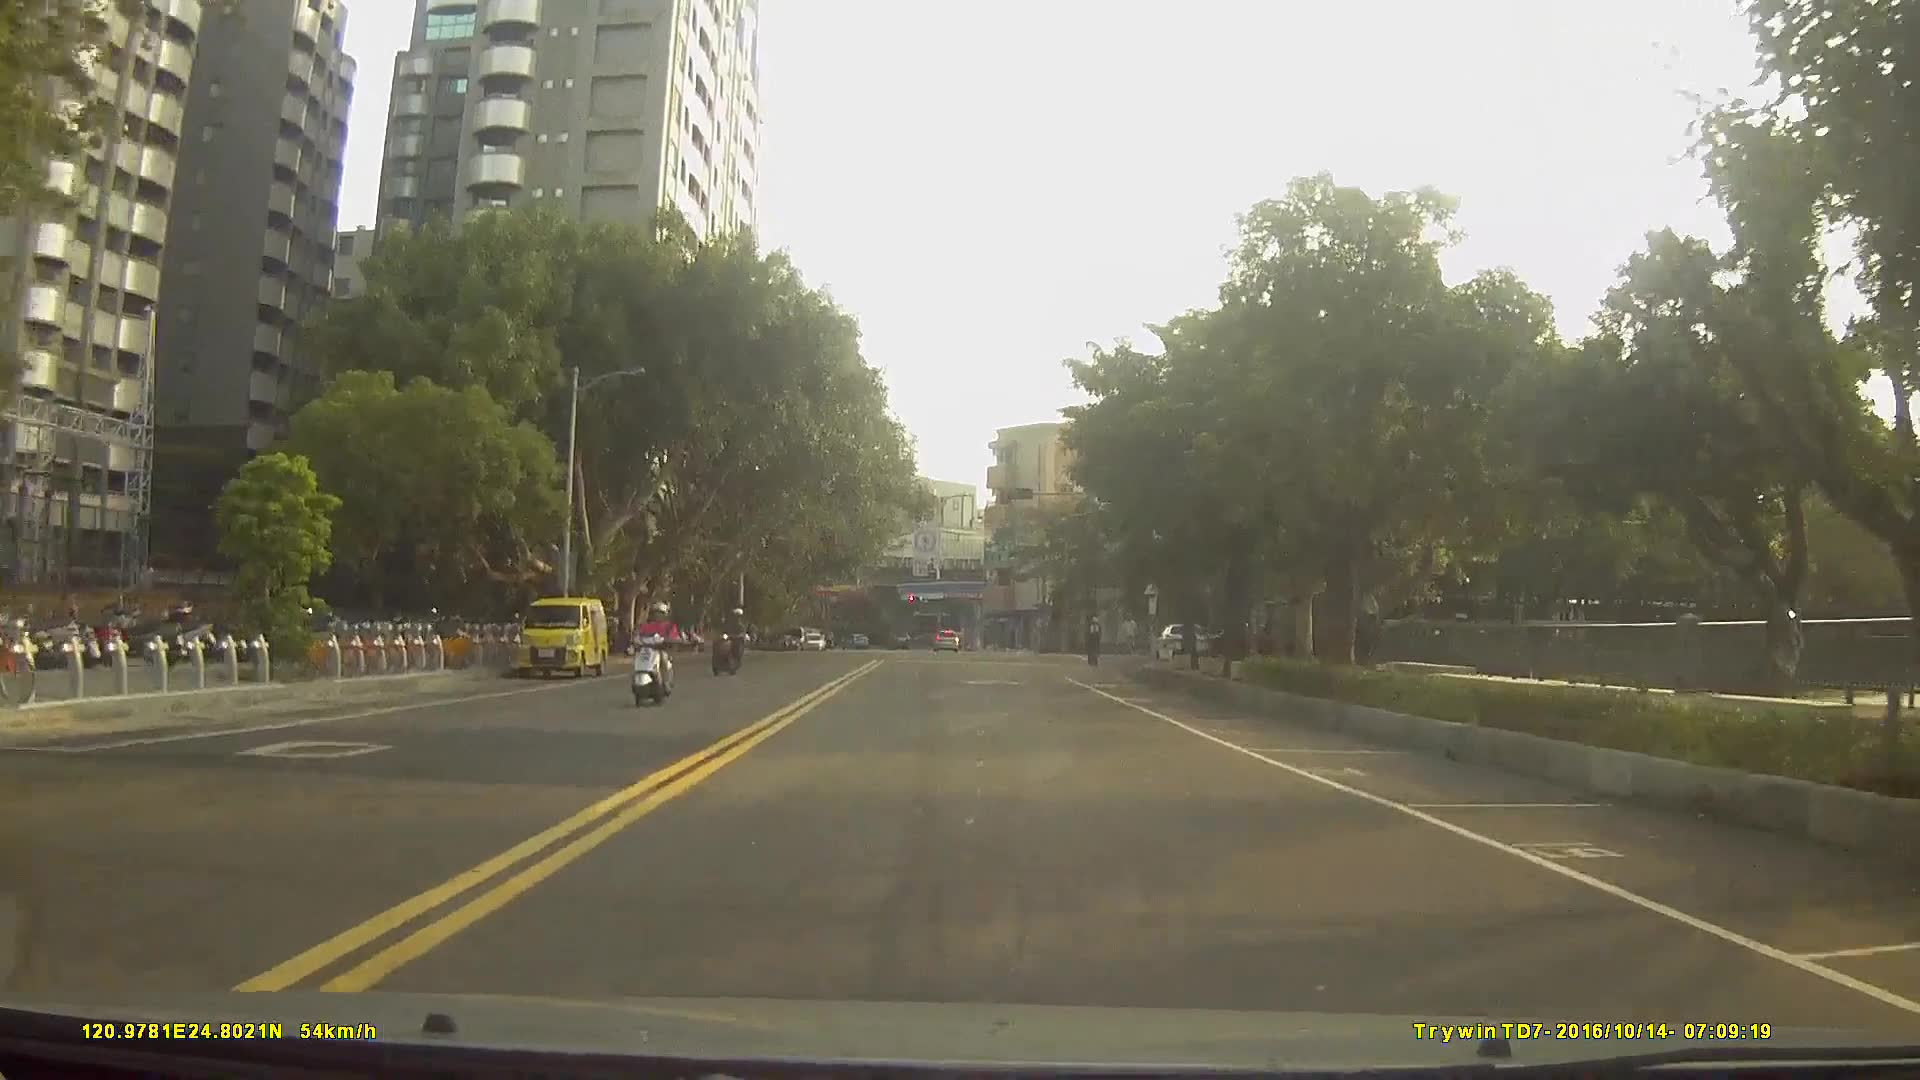pedestrian: (1120, 612, 1140, 656)
rider: (628, 603, 687, 705), (710, 607, 749, 675), (1084, 619, 1105, 673)
vehicle: (935, 628, 959, 652)
